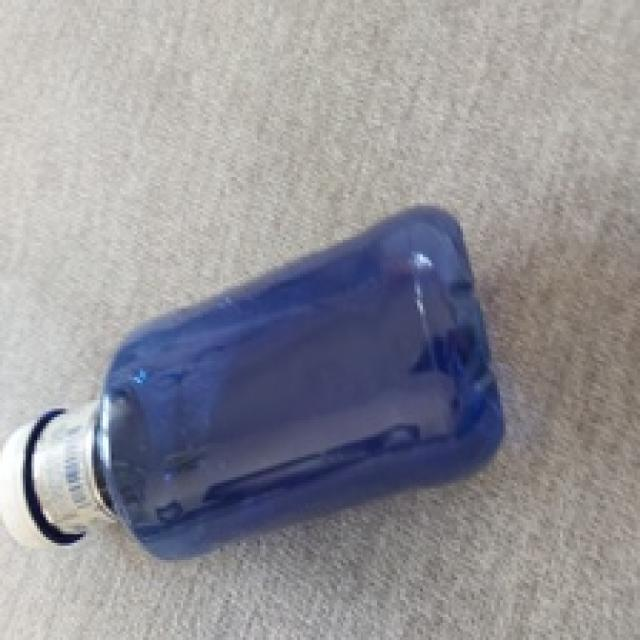Plastic: (0, 198, 509, 569)
